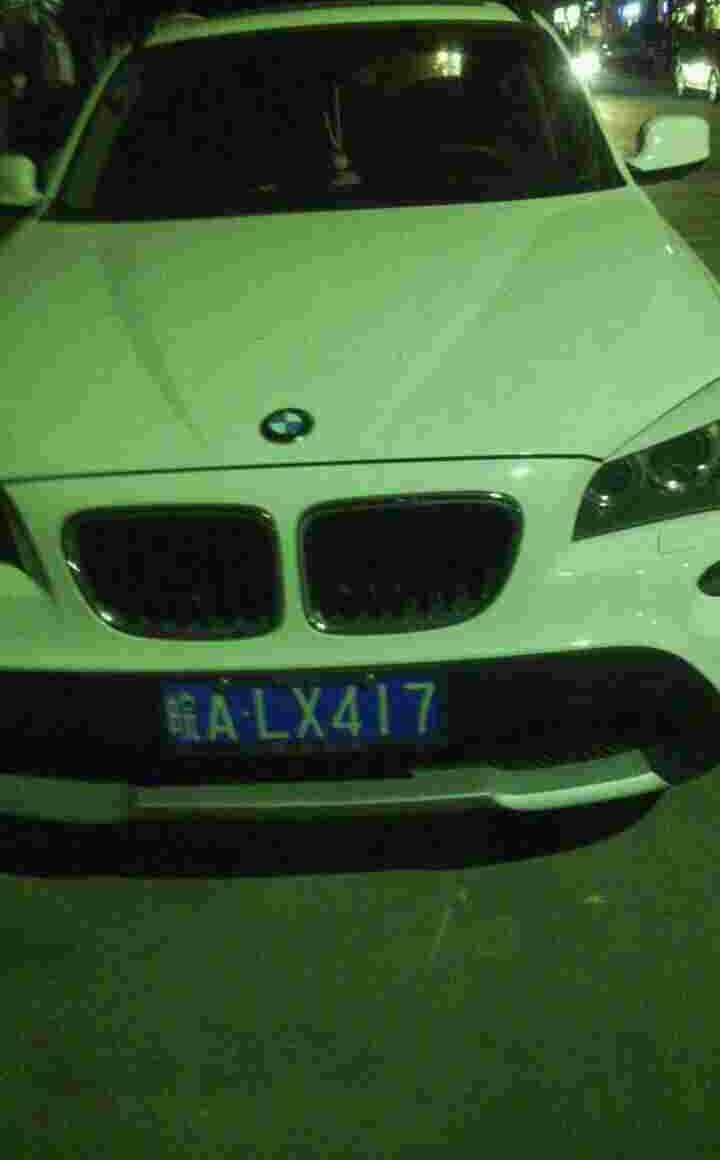car: (155, 672, 450, 746)
